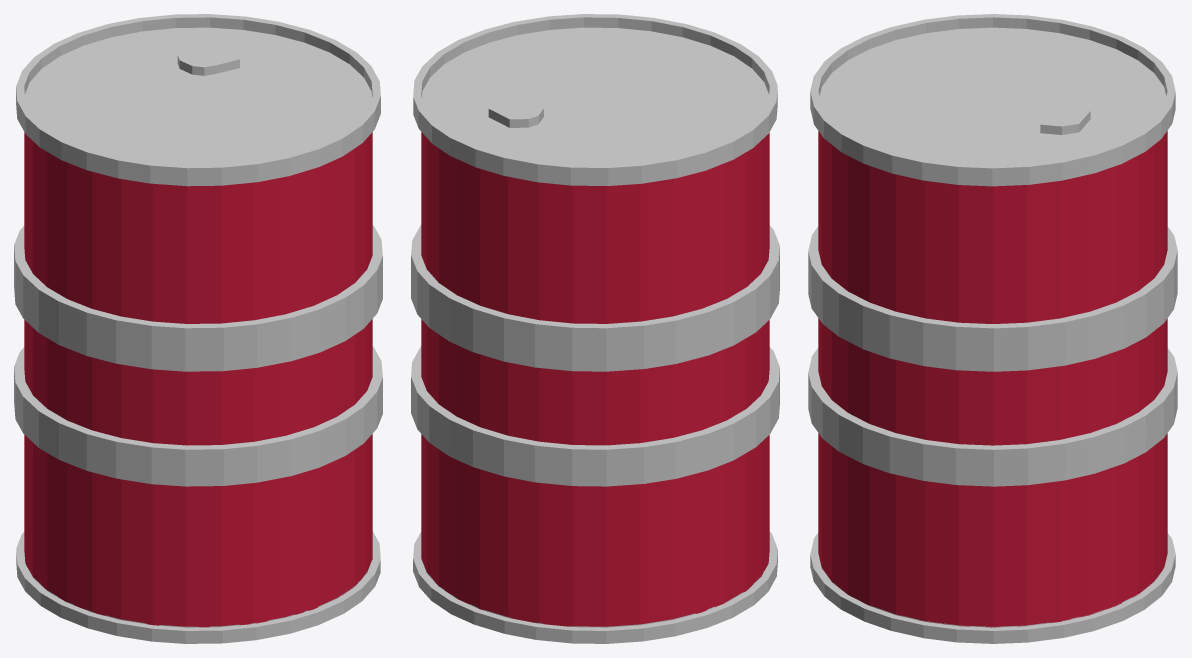
File: ドラム缶 赤.fbx
3 renders of one model, left to right at view 1: azimuth 30°, elevation 25°; view 2: azimuth 150°, elevation 25°; view 3: azimuth 270°, elevation 25°, orthographic.
Visible parts, largest first — view 1: Cylinder; view 2: Cylinder; view 3: Cylinder.
Part boxes in pixels (bbox=[...]): Cylinder: bbox=[14, 14, 382, 643]; Cylinder: bbox=[411, 14, 779, 643]; Cylinder: bbox=[808, 14, 1177, 643].
Size of the model in its own units: 212 by 301 by 212.
